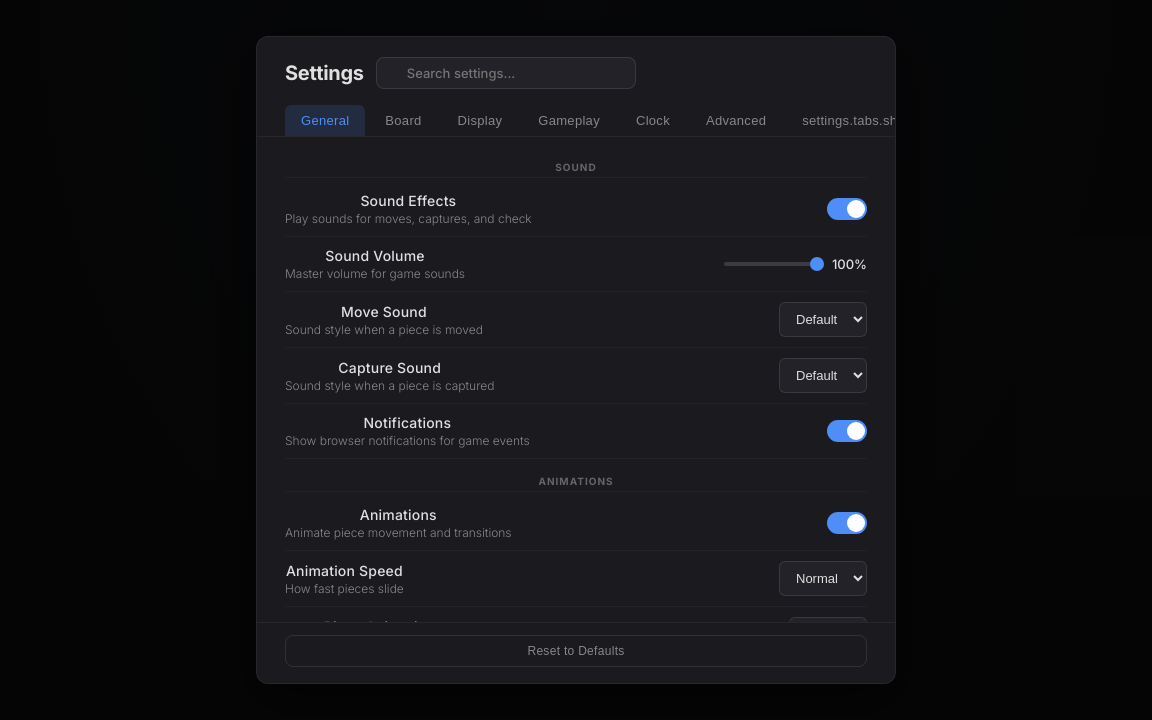
Test: SettingsDialog › switches to display tab on click
Step 1. Click the button "Display" → (480, 120), box [442,105,518,136]
(page scrolled)
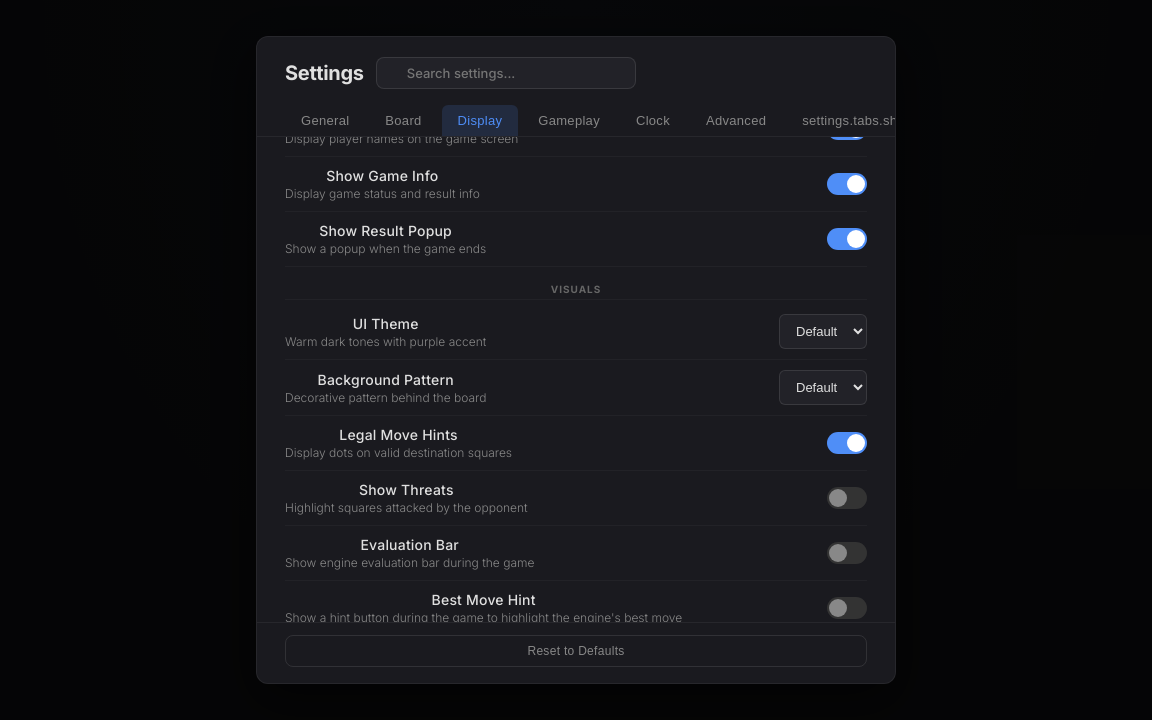
Expected: the text "Background Pattern" is shown, [318,370,454,388]
